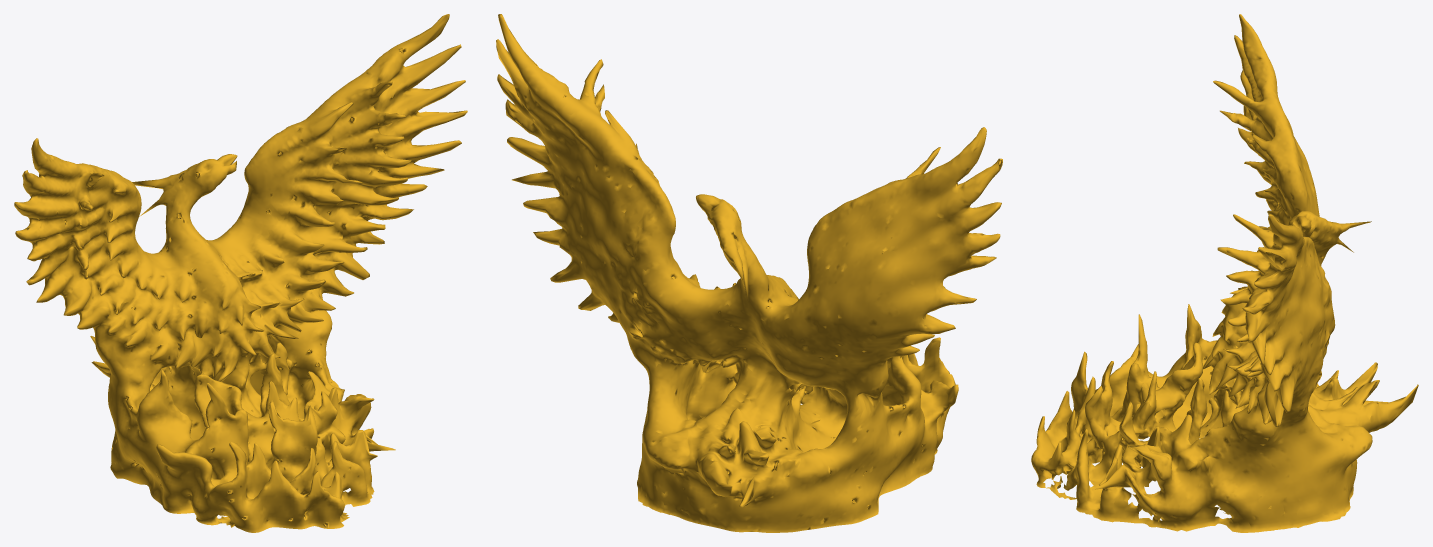
File: PHOENIX OR.glb
The picture shows the model from 3 angles, left to right: view 1: azimuth 30°, elevation 25°; view 2: azimuth 150°, elevation 25°; view 3: azimuth 270°, elevation 25°; orthographic projection. The views are drawn at different scales.
Parts seen in each view (by area): view 1: Model; view 2: Model; view 3: Model.
Part boxes in pixels (bbox=[...]): Model: bbox=[14, 14, 467, 532]; Model: bbox=[496, 14, 1002, 532]; Model: bbox=[1031, 14, 1418, 532].
Bounding box in the file's own units: 0.406 × 0.3256 × 0.2959.
